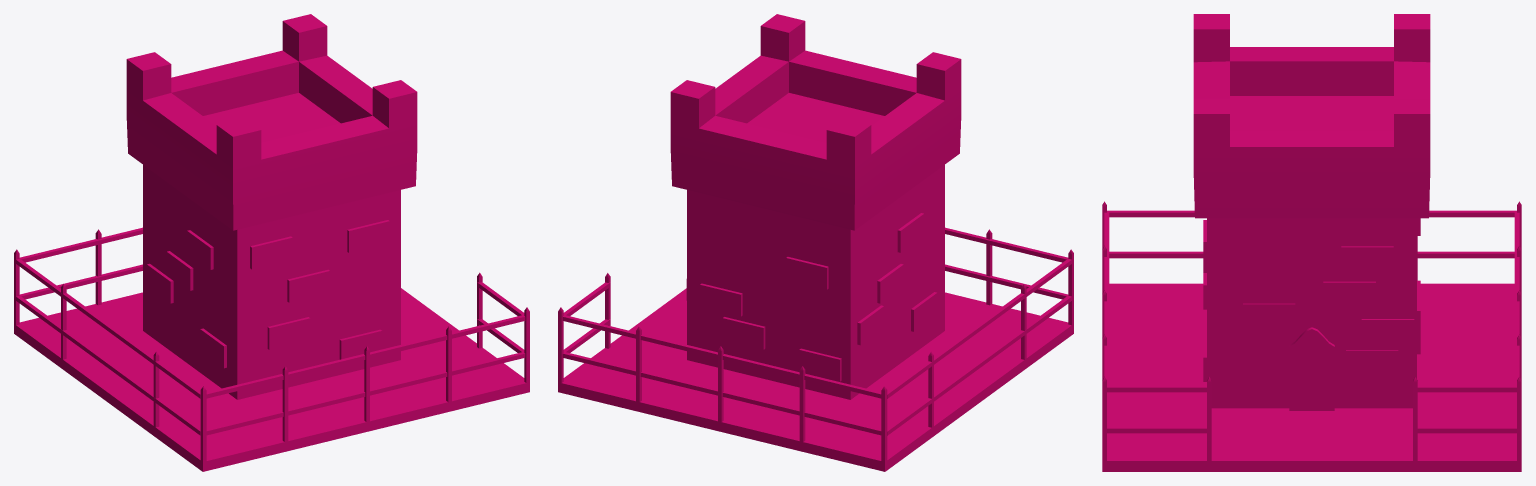
File: castle_house.fbx
3 views of the same model, side by side, from view 1: azimuth 30°, elevation 25°; view 2: azimuth 150°, elevation 25°; view 3: azimuth 270°, elevation 25° (orthographic). The views are drawn at different scales.
Visible parts, largest first — view 1: pCube1, BASE, pCube21, pCube24, pCube2, pCube3, pCube5, pCube4, pCube25, pCube26, pCube47, pCube44 (+9 smaller); view 2: pCube1, BASE, pCube23, pCube22, pCube5, pCube4, pCube2, pCube3, pCube25, pCube26, pCube35, pCube34 (+8 smaller); view 3: pCube1, BASE, pCube6, pCube4, pCube3, pCube2, pCube5, pCube28, pCube27, pCube26, pCube32, pCube25 (+6 smaller).
Part boxes in pixels (x1,y1,x2,y2): pCube1: [126, 50, 417, 399]; BASE: [14, 288, 529, 471]; pCube21: [206, 352, 525, 435]; pCube24: [206, 315, 525, 398]; pCube2: [216, 118, 261, 166]; pCube3: [372, 80, 417, 128]; pCube5: [126, 52, 171, 100]; pCube4: [282, 14, 327, 61]; pCube25: [16, 259, 200, 398]; pCube26: [16, 295, 200, 435]; pCube47: [267, 317, 310, 349]; pCube44: [287, 269, 329, 302]; pCube1: [670, 50, 961, 399]; BASE: [558, 288, 1073, 471]; pCube23: [562, 315, 881, 398]; pCube22: [562, 352, 881, 435]; pCube5: [826, 118, 871, 166]; pCube4: [670, 80, 715, 128]; pCube2: [916, 52, 961, 100]; pCube3: [760, 14, 805, 61]; pCube25: [887, 258, 1071, 398]; pCube26: [887, 295, 1071, 435]; pCube35: [722, 317, 765, 349]; pCube34: [700, 283, 742, 316]; pCube1: [1193, 47, 1430, 408]; BASE: [1102, 283, 1521, 471]; pCube6: [1289, 327, 1334, 410]; pCube4: [1394, 98, 1430, 146]; pCube3: [1193, 98, 1229, 146]; pCube2: [1193, 14, 1229, 62]; pCube5: [1394, 14, 1430, 62]; pCube28: [1107, 426, 1516, 433]; pCube27: [1107, 385, 1516, 392]; pCube26: [1109, 251, 1514, 258]; pCube32: [1361, 319, 1414, 344]; pCube25: [1107, 210, 1516, 217].
Bounding box in the file's own units: 8 × 6.72 × 8.
